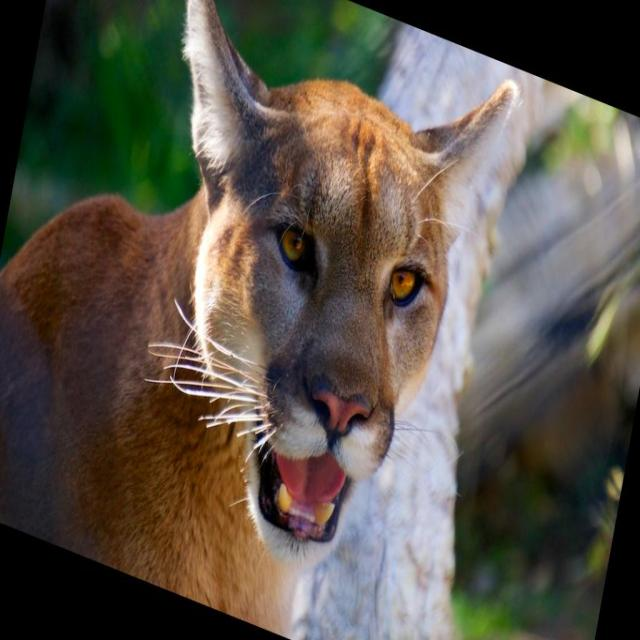Lion: (0, 0, 531, 639)
